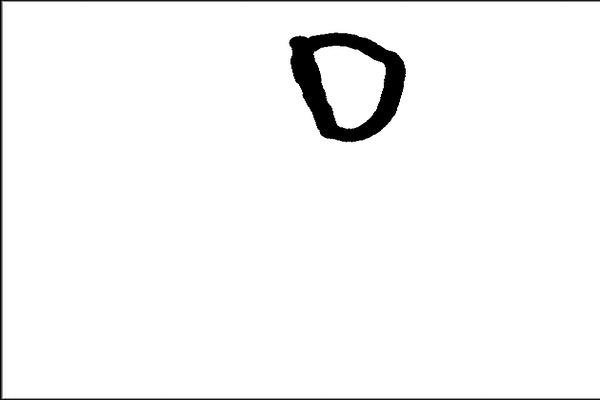D: (284, 26, 408, 148)
